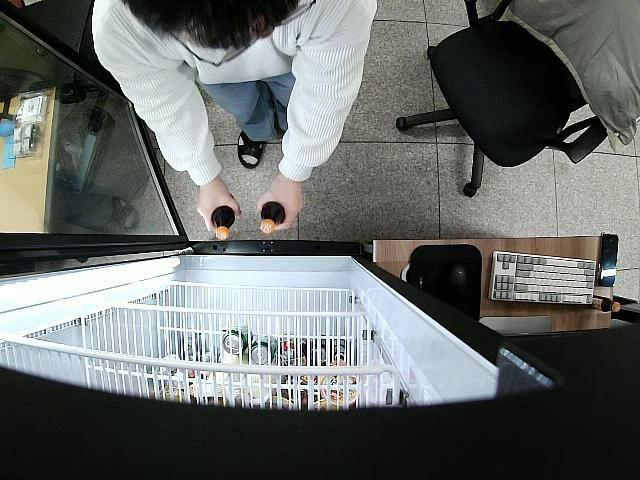17_vita500: (258, 202, 286, 234), (211, 206, 236, 241)
